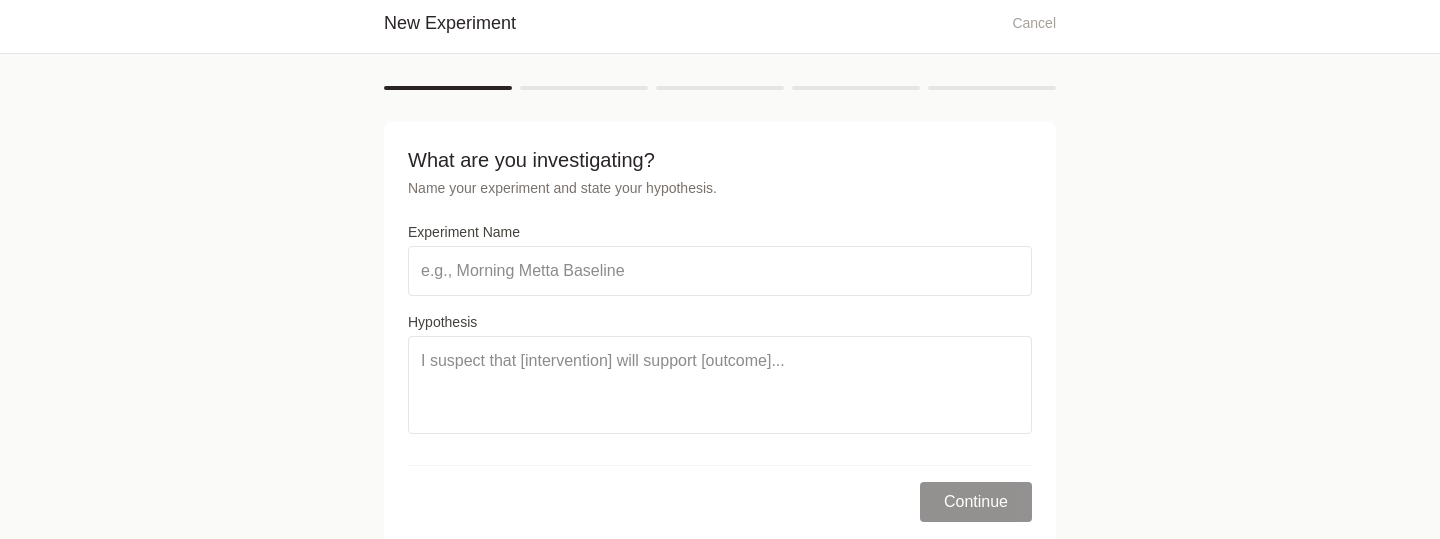
it: CreateExperiment › Step Navigation › advances to protocol step
Note: Fill basics
Type "Test" into the field with placeholder "e.g., Morning Metta Baseline". click: (720, 271)
box: [408,246,1032,296]
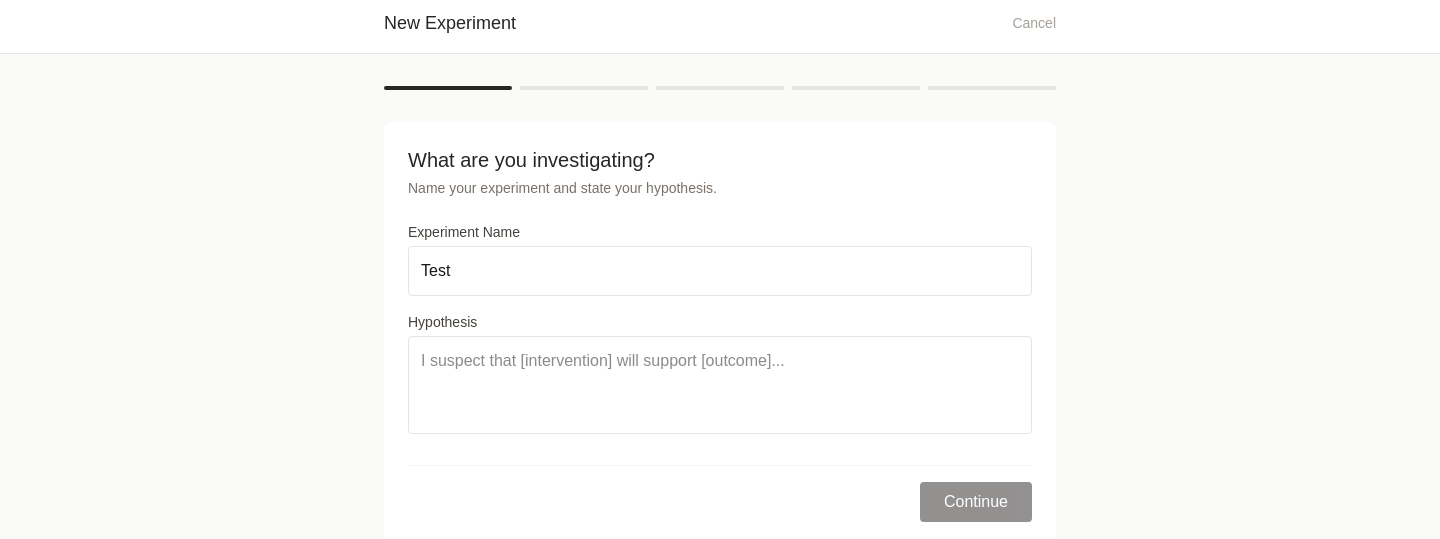
Type "Hypothesis" into the text box with placeholder "I suspect that [intervention] will support [outcome]...". click: (720, 385)
box: [408,336,1032,434]
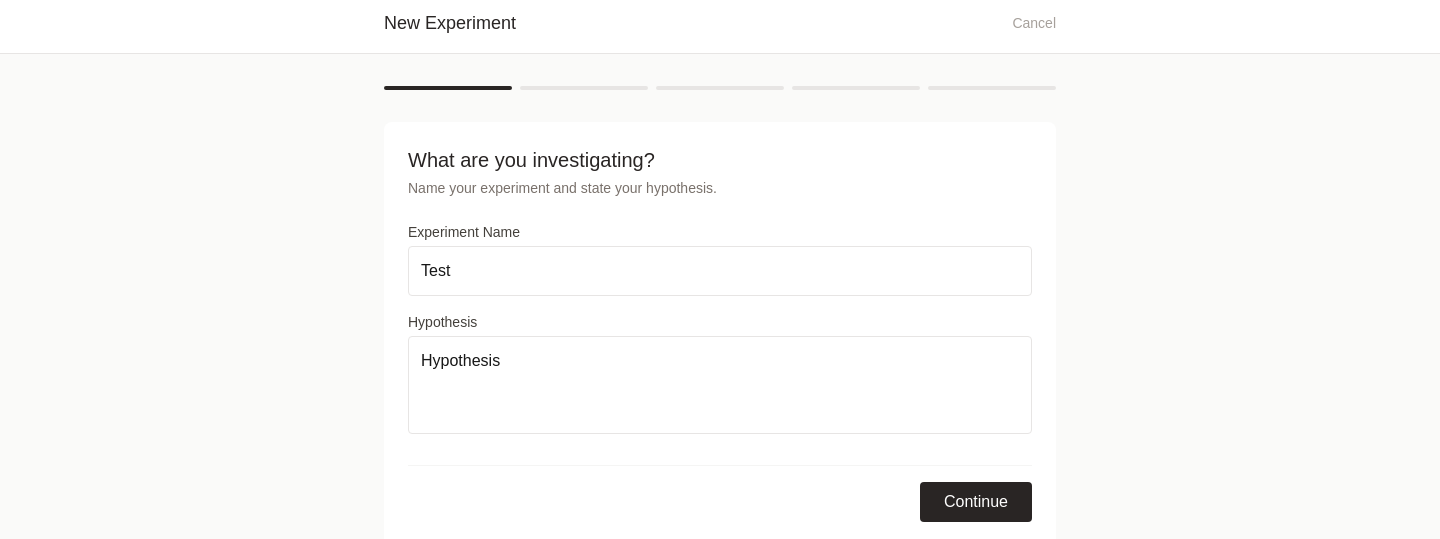
Click the button "Continue". click: (976, 502)
box: [920,482,1032,522]
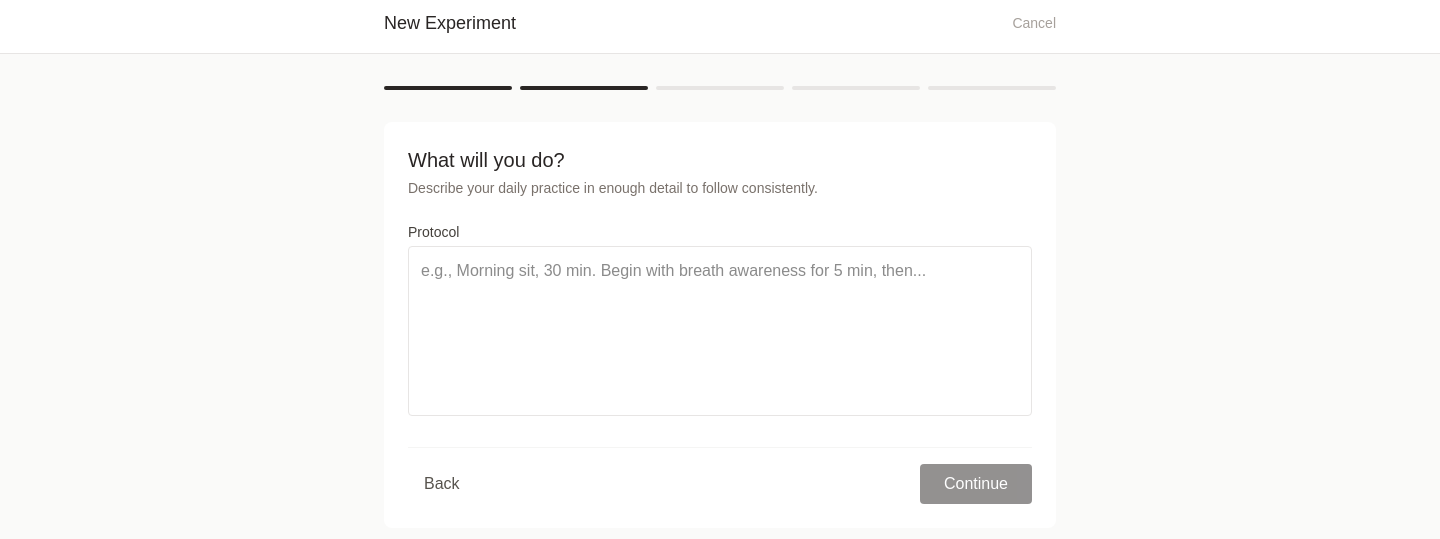
Expected: the heading "What will you do?" is shown, [408,149,565,171]
